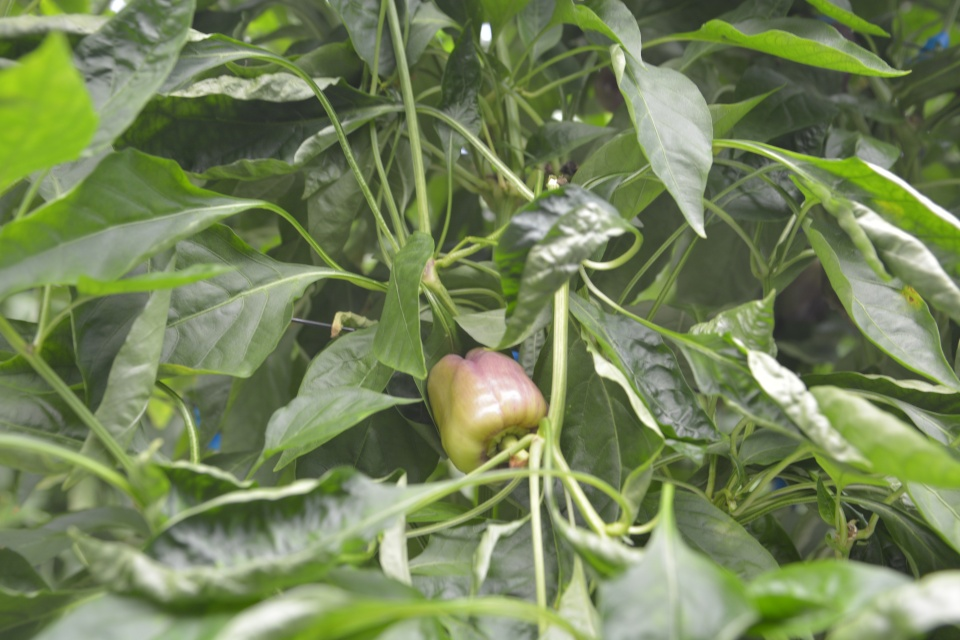fruit: (424, 342, 550, 490)
pedicle: (485, 424, 531, 469)
